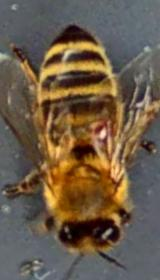varroa_mite: (73, 112, 123, 153)
